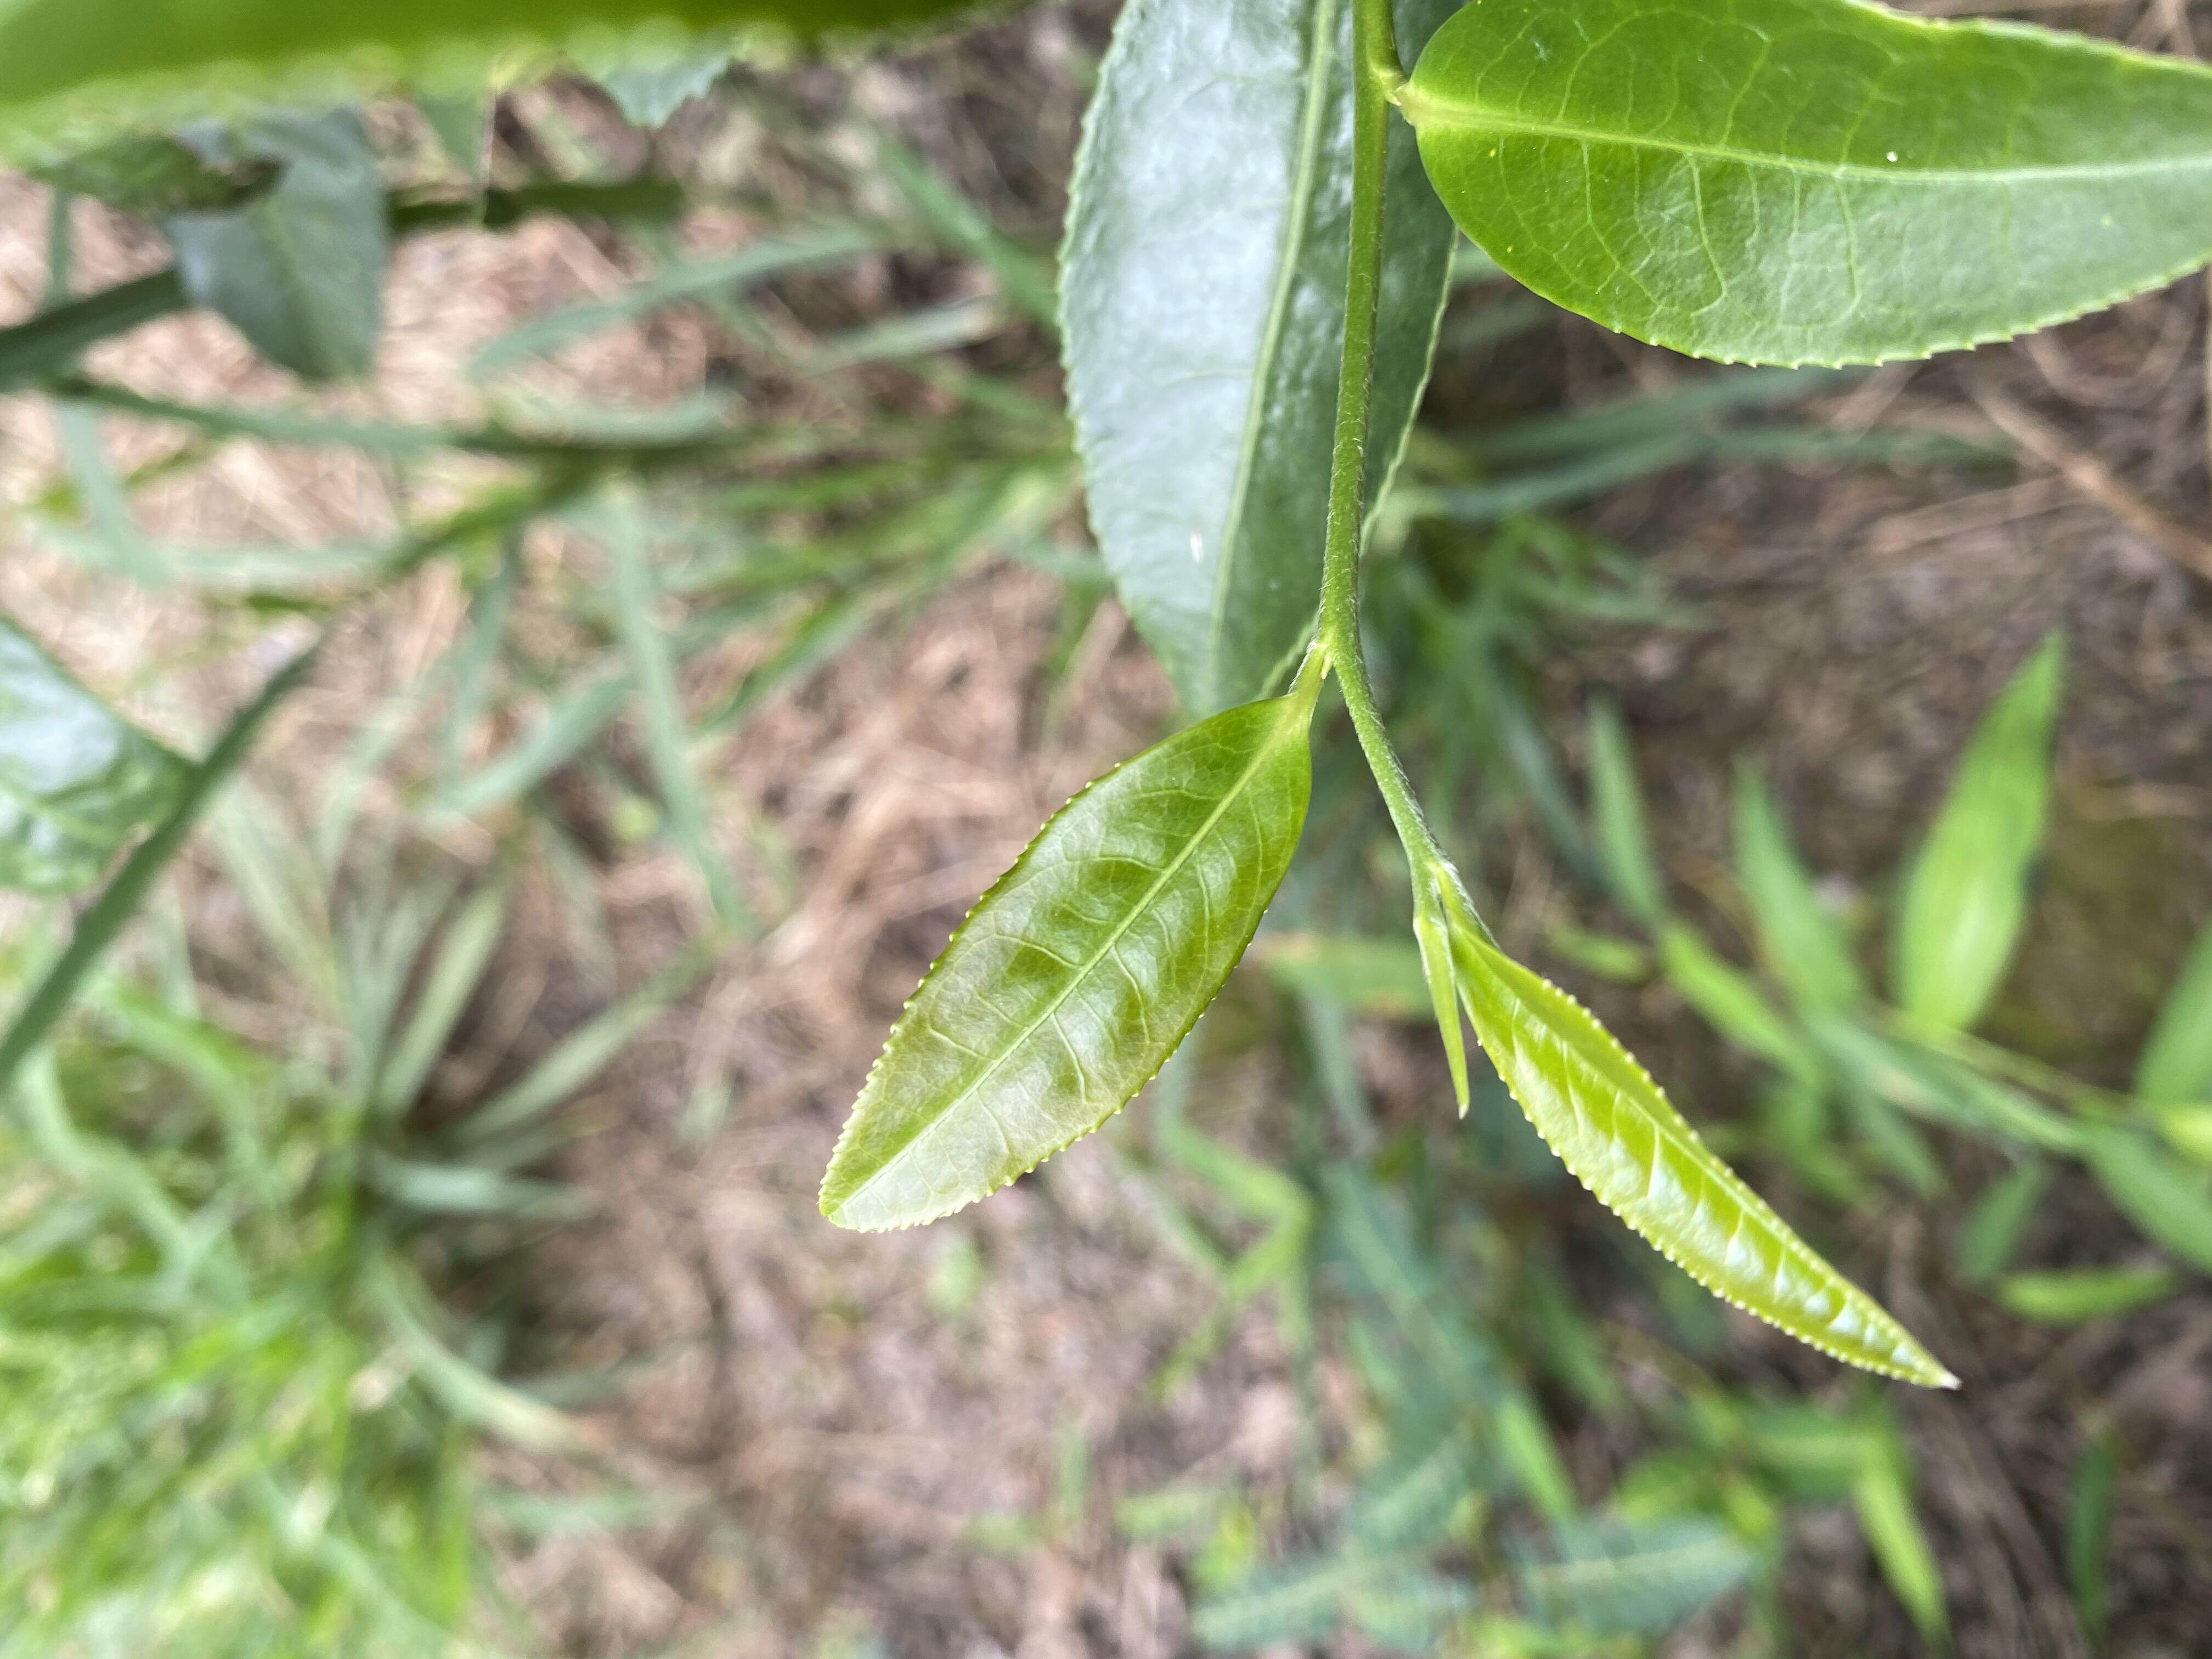healthy: (815, 690, 1317, 1232), (1453, 927, 1958, 1387)
